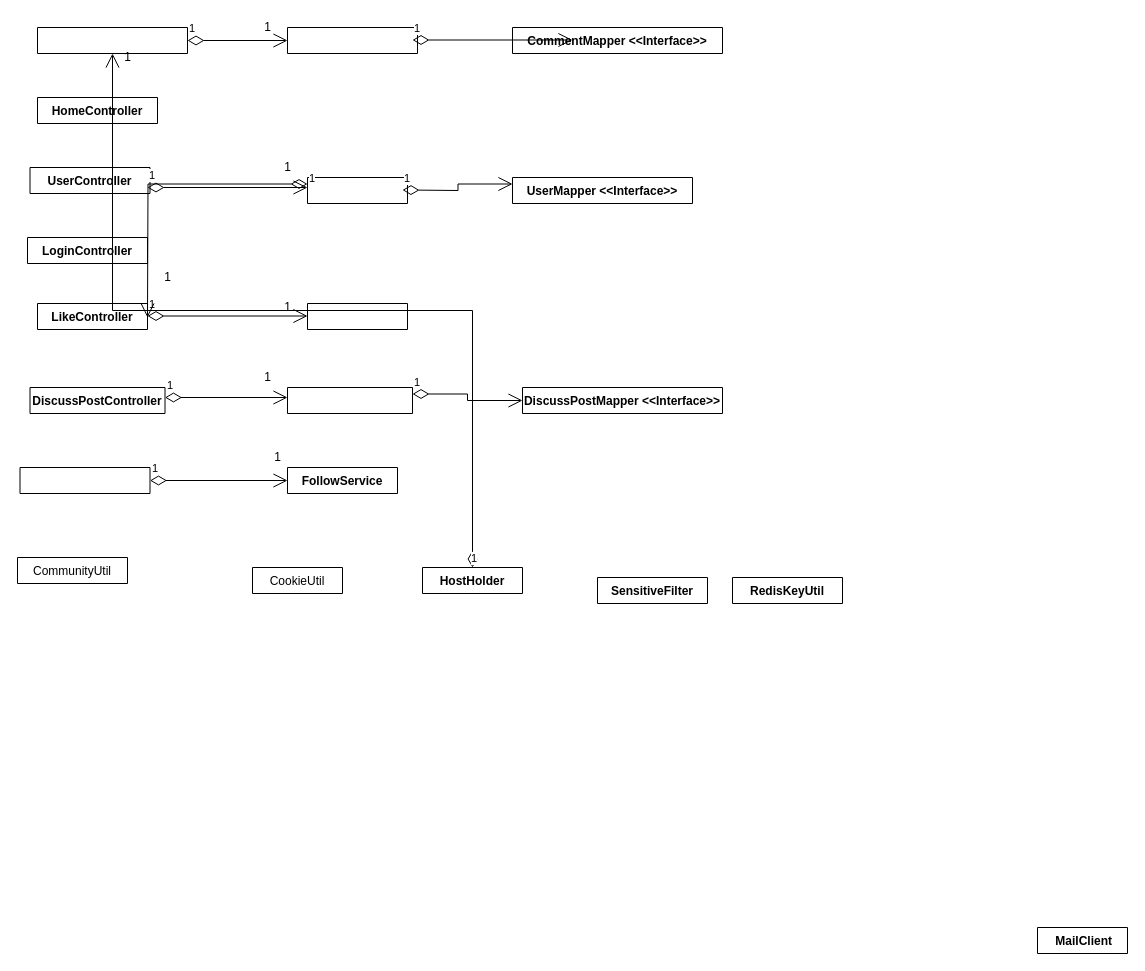
This 1145x971 diagram has some shape labels left out. Each missing label, with the centre of its shape:
CommentController: (x=112, y=40)
CommentService: (x=352, y=40)
DiscussPostService: (x=349, y=400)
FollowController: (x=84, y=480)
LikeService: (x=357, y=316)
UserService: (x=357, y=190)
